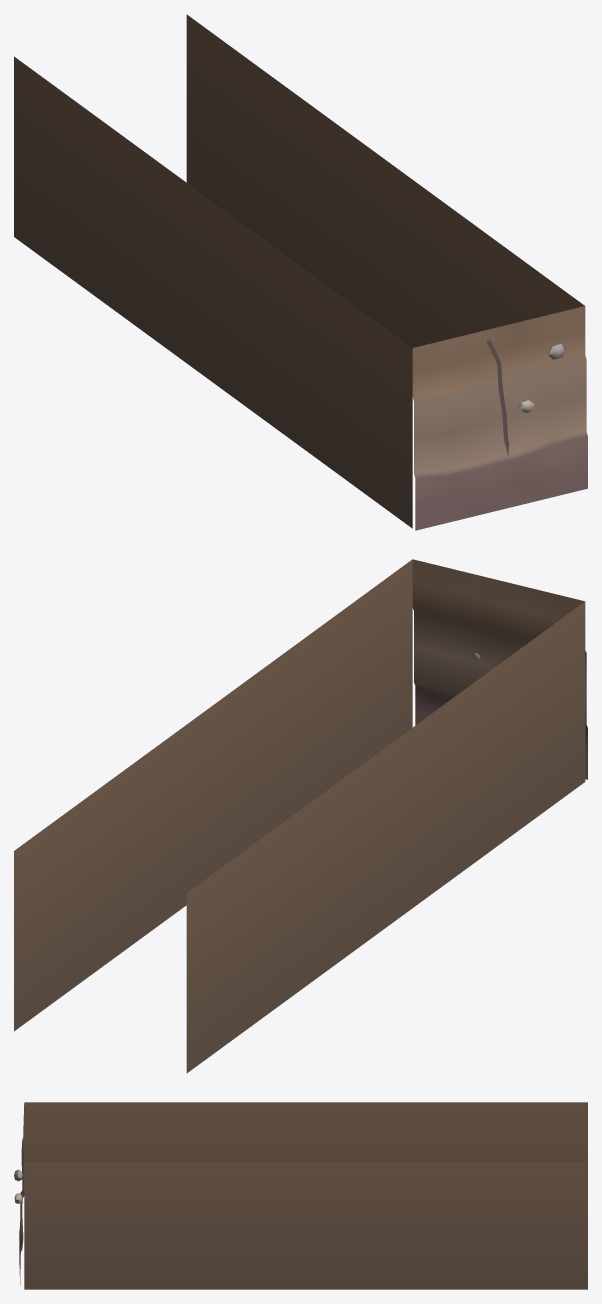
The model's file is groundlite_deep_0.glb.
The picture shows the model from 3 angles, top to bottom: view 1: azimuth 30°, elevation 25°; view 2: azimuth 150°, elevation 25°; view 3: azimuth 270°, elevation 25°; orthographic projection. The views are drawn at different scales.
Parts seen in each view (by area): view 1: groundlite_deep_0; view 2: groundlite_deep_0; view 3: groundlite_deep_0.
Part boxes in pixels (x1=…): groundlite_deep_0: x1=14, y1=14, x2=587, y2=530; groundlite_deep_0: x1=14, y1=559, x2=587, y2=1073; groundlite_deep_0: x1=14, y1=1102, x2=587, y2=1289.
Size of the model in its own units: 1 by 1 by 4.07.
